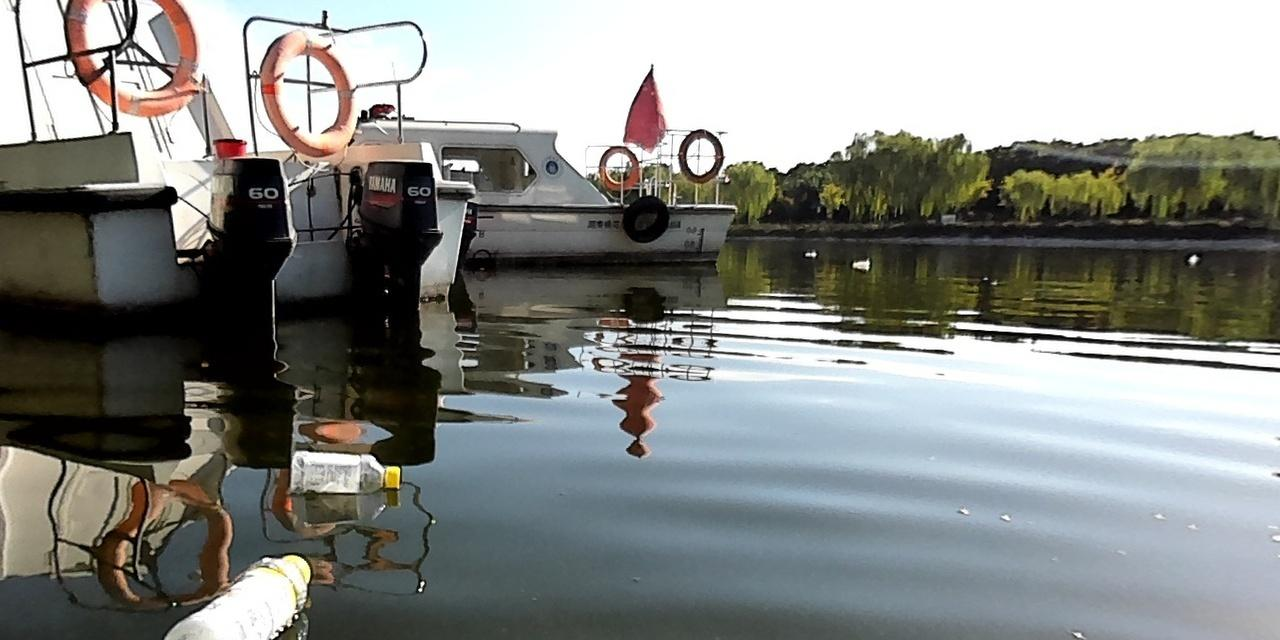bottle: (165, 552, 312, 639), (283, 448, 398, 495), (851, 259, 867, 267)
